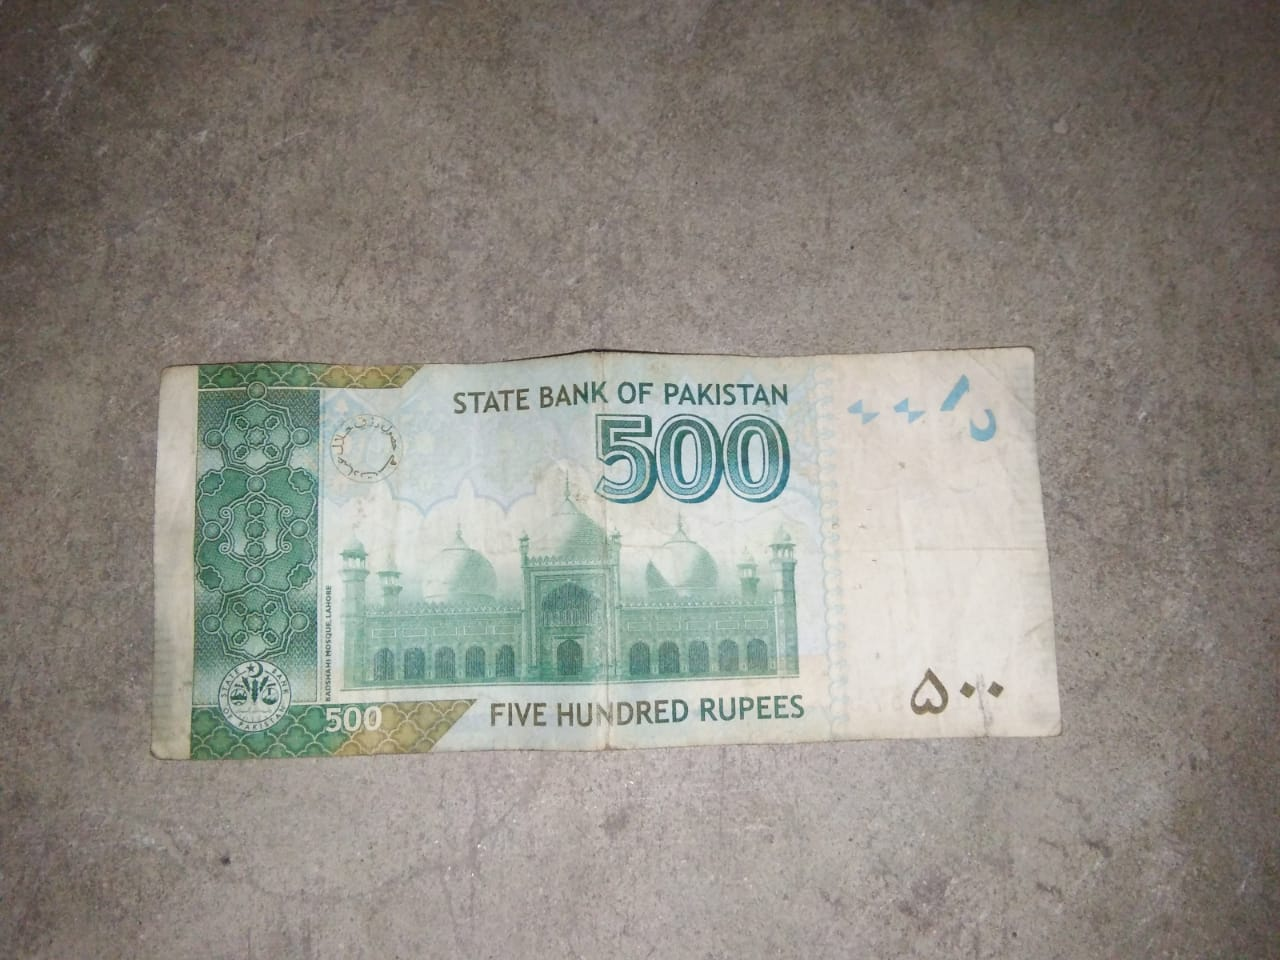500 rupee: (125, 364, 1083, 748)
